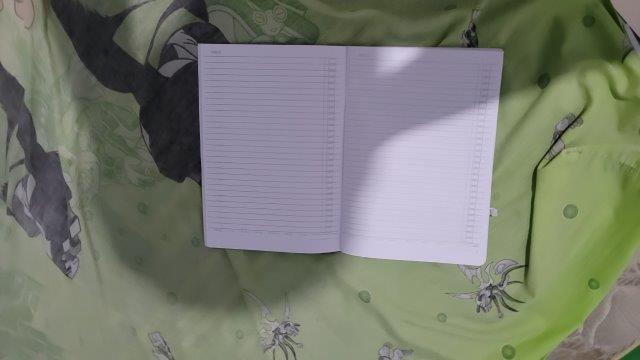kertas: (196, 44, 505, 267)
